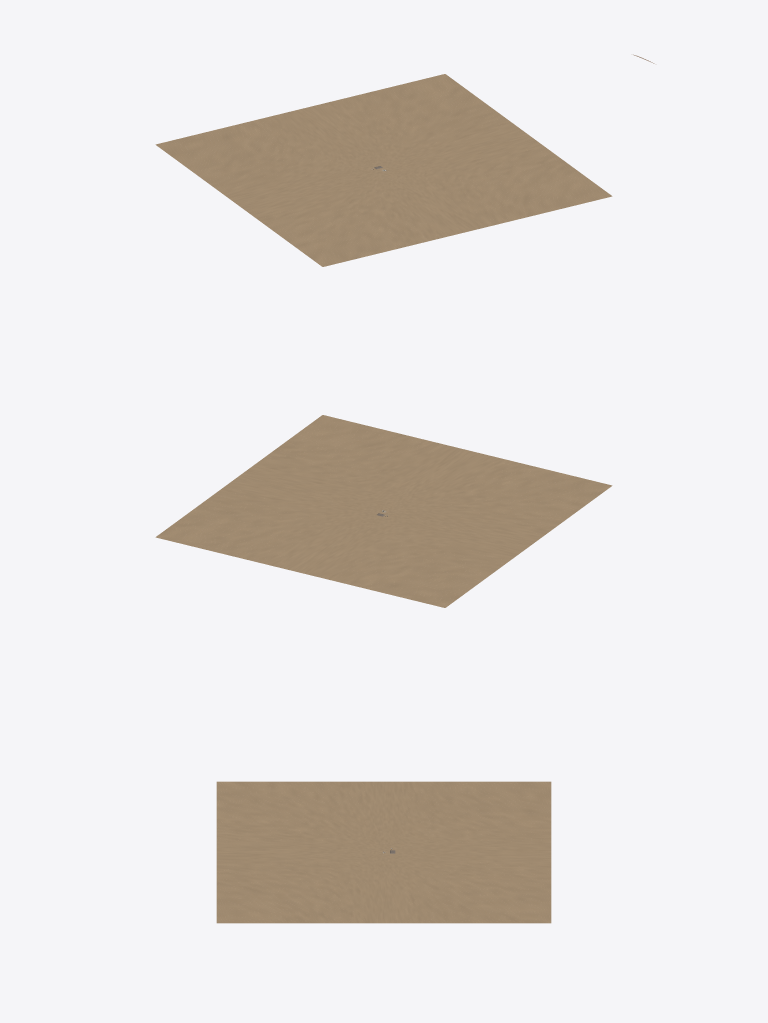
Rendered from humberstone.glb.
The picture shows the model from 3 angles, top to bottom: view 1: azimuth 30°, elevation 25°; view 2: azimuth 150°, elevation 25°; view 3: azimuth 270°, elevation 25°; orthographic projection.
Visible parts, largest first — view 1: suelo; view 2: suelo; view 3: suelo.
Boxes of the visible parts, bbox=[...] form: suelo: bbox=[155, 74, 612, 266]; suelo: bbox=[155, 415, 612, 607]; suelo: bbox=[216, 781, 551, 923].
Size of the model in its own units: 42016 by 852 by 42016.
43 materials, 32 textured.
